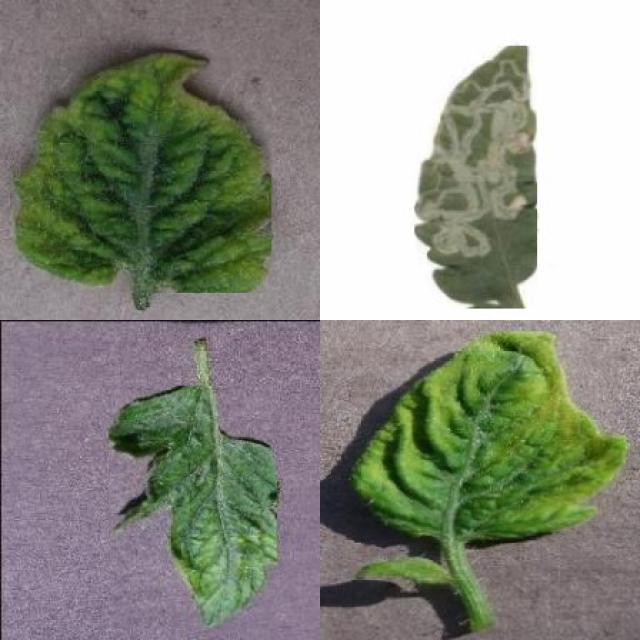Leaf Miner: (415, 46, 538, 308)
Mosaic Virus: (108, 386, 278, 628)
Yellow Leaf Curl Virus: (14, 50, 272, 293), (354, 332, 626, 542)
